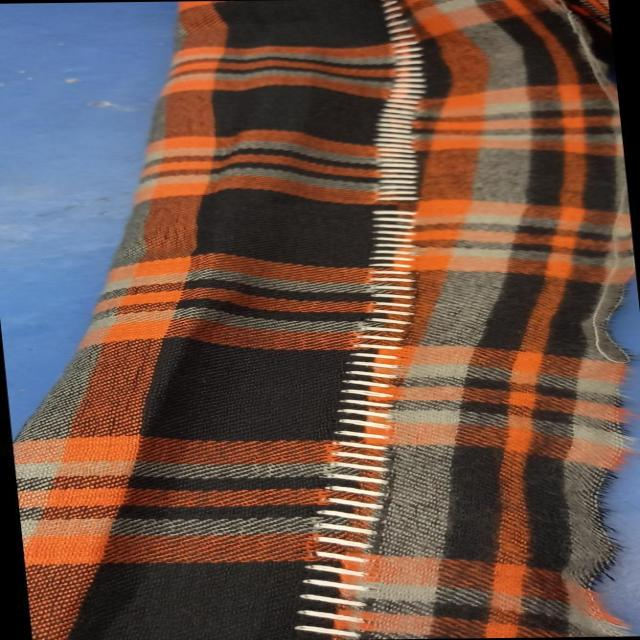gray stitch: (334, 0, 474, 286), (298, 290, 443, 518), (268, 518, 401, 640)
